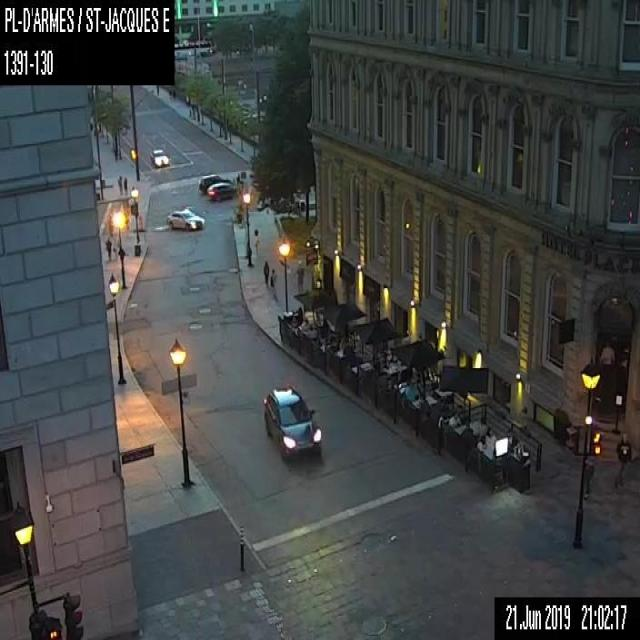pedestrian: (611, 431, 632, 488), (583, 455, 596, 497), (296, 259, 304, 291), (104, 236, 112, 260), (253, 225, 259, 256), (262, 260, 269, 285), (269, 268, 276, 292), (116, 174, 122, 195), (122, 176, 128, 194)
vehicle: (261, 381, 323, 465), (166, 208, 204, 229), (197, 172, 230, 191), (207, 182, 237, 200), (149, 147, 169, 168)
